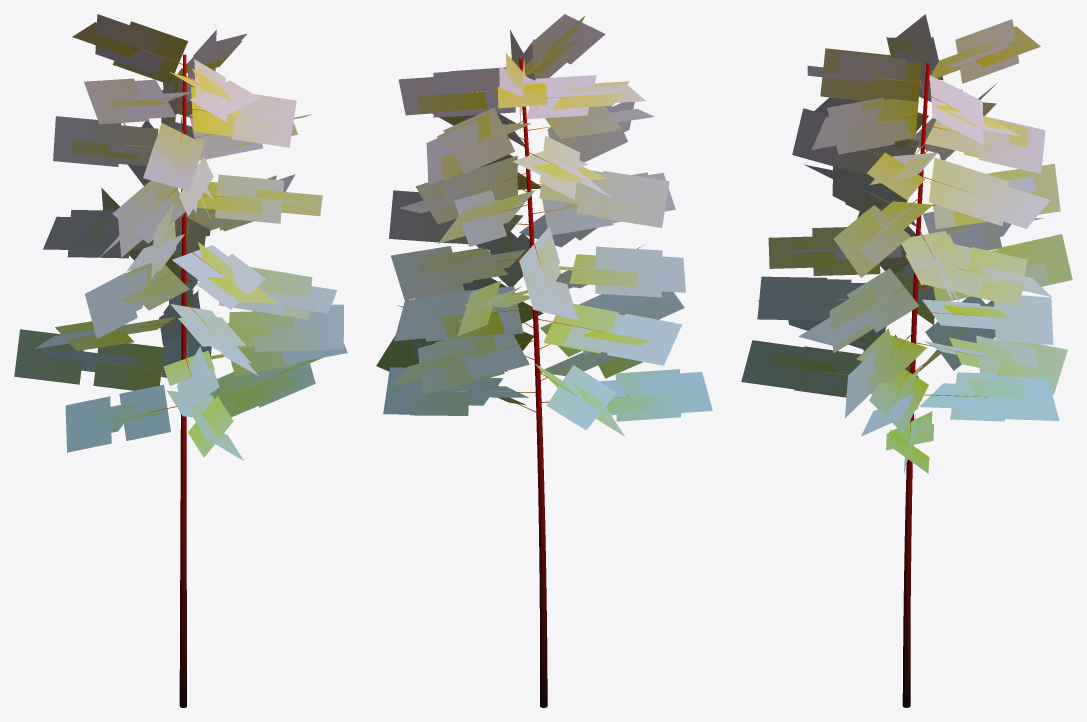
Rendered from bamboo_0.glb.
3 views of the same model, side by side, from view 1: azimuth 30°, elevation 25°; view 2: azimuth 150°, elevation 25°; view 3: azimuth 270°, elevation 25° (orthographic).
Parts seen in each view (by area): view 1: bamboo_0_lod0; view 2: bamboo_0_lod0; view 3: bamboo_0_lod0.
Part boxes in pixels (x1,y1,x2,y2): bamboo_0_lod0: (14, 14, 347, 707); bamboo_0_lod0: (376, 14, 712, 707); bamboo_0_lod0: (741, 14, 1072, 707).
Size of what is drawn, in the model's own units: 5.69 by 12.21 by 5.47.
